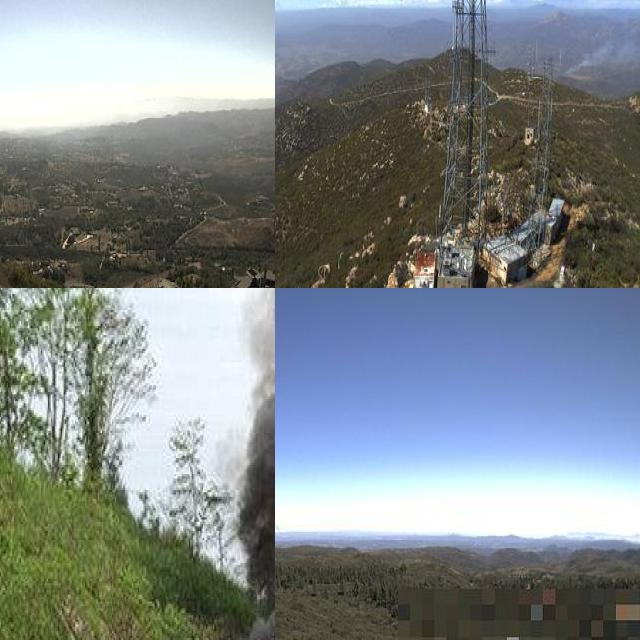smoke: (557, 23, 640, 77), (275, 509, 283, 531)
